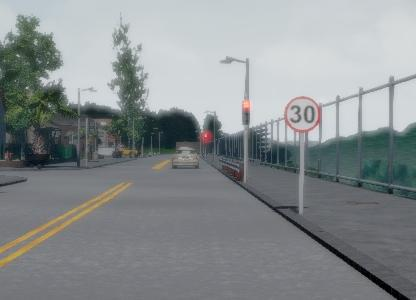Speed_30: (283, 95, 323, 134)
